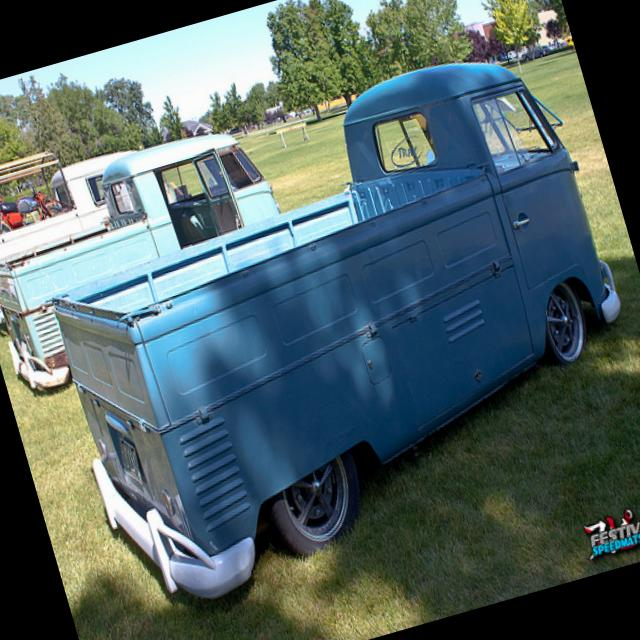Vehicle: (10, 34, 640, 622), (0, 121, 311, 396), (0, 145, 172, 327), (0, 139, 165, 316), (0, 179, 66, 238), (519, 43, 546, 63), (563, 34, 575, 50), (542, 43, 552, 54), (506, 48, 516, 58)
